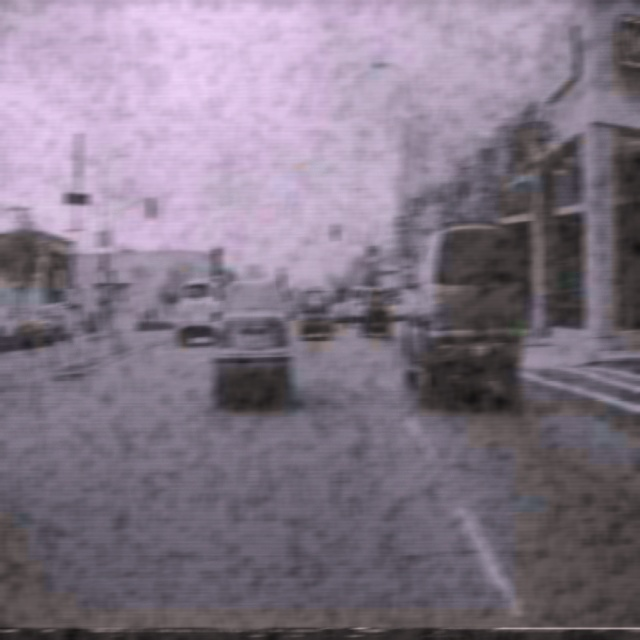noLeftTurn: (63, 288, 88, 337)
